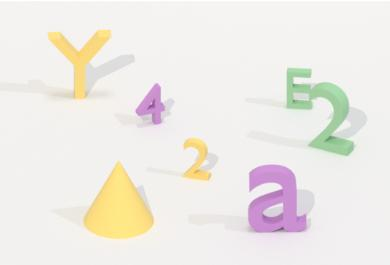0-TamGiac: (77, 158, 159, 243)
2: (308, 81, 356, 158), (178, 133, 215, 185)
4: (132, 80, 168, 131)
E: (284, 64, 316, 113)
Y: (43, 25, 116, 106)
a: (244, 159, 310, 236)
